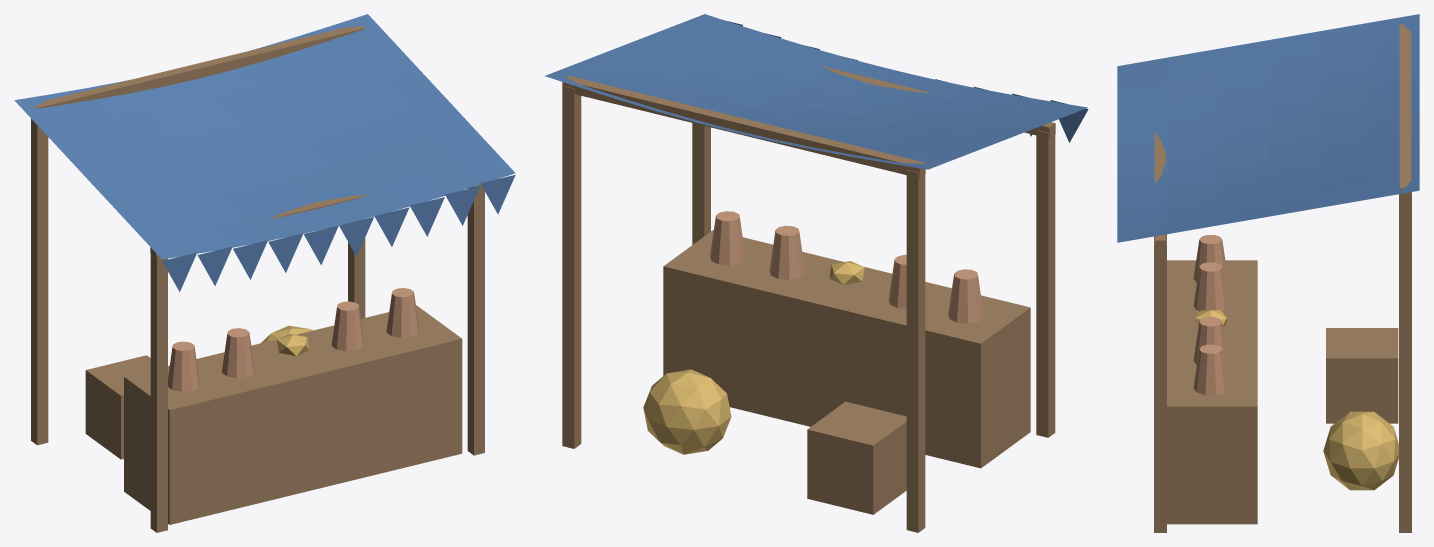
The model's file is SM_DST_Settle_Stall_B_Frac.fbx.
The picture shows the model from 3 angles, left to right: view 1: azimuth 30°, elevation 25°; view 2: azimuth 150°, elevation 25°; view 3: azimuth 270°, elevation 25°; orthographic projection. The views are drawn at different scales.
Visible parts, largest first — view 1: SM_DST_Settle_Stall_B_p05, SM_DST_Settle_Stall_B_p04, SM_DST_Settle_Stall_B_p03, SM_DST_Settle_Stall_B_p02, SM_DST_Settle_Stall_B_p07, SM_DST_Settle_Stall_B_p01, SM_DST_Settle_Stall_B_p06, SM_DST_Settle_Stall_B_p00; view 2: SM_DST_Settle_Stall_B_p04, SM_DST_Settle_Stall_B_p01, SM_DST_Settle_Stall_B_p02, SM_DST_Settle_Stall_B_p05, SM_DST_Settle_Stall_B_p07, SM_DST_Settle_Stall_B_p00, SM_DST_Settle_Stall_B_p03, SM_DST_Settle_Stall_B_p06; view 3: SM_DST_Settle_Stall_B_p04, SM_DST_Settle_Stall_B_p05, SM_DST_Settle_Stall_B_p03, SM_DST_Settle_Stall_B_p07, SM_DST_Settle_Stall_B_p00, SM_DST_Settle_Stall_B_p01, SM_DST_Settle_Stall_B_p06, SM_DST_Settle_Stall_B_p02.
Boxes of the visible parts, box(x1,y1,x2,y2) form: SM_DST_Settle_Stall_B_p05: box(187, 59, 515, 287); SM_DST_Settle_Stall_B_p04: box(253, 284, 484, 489); SM_DST_Settle_Stall_B_p03: box(42, 66, 280, 301); SM_DST_Settle_Stall_B_p02: box(124, 324, 254, 532); SM_DST_Settle_Stall_B_p07: box(215, 14, 508, 166); SM_DST_Settle_Stall_B_p01: box(31, 298, 313, 504); SM_DST_Settle_Stall_B_p06: box(14, 95, 204, 328); SM_DST_Settle_Stall_B_p00: box(131, 219, 365, 360); SM_DST_Settle_Stall_B_p04: box(663, 167, 892, 426); SM_DST_Settle_Stall_B_p01: box(811, 254, 941, 532); SM_DST_Settle_Stall_B_p02: box(939, 211, 1055, 468); SM_DST_Settle_Stall_B_p05: box(692, 14, 958, 171); SM_DST_Settle_Stall_B_p07: box(545, 17, 719, 281); SM_DST_Settle_Stall_B_p00: box(562, 277, 859, 511); SM_DST_Settle_Stall_B_p03: box(745, 84, 1041, 378); SM_DST_Settle_Stall_B_p06: box(898, 100, 1088, 382); SM_DST_Settle_Stall_B_p04: box(1154, 310, 1257, 532); SM_DST_Settle_Stall_B_p05: box(1117, 101, 1419, 362); SM_DST_Settle_Stall_B_p03: box(1117, 30, 1419, 133); SM_DST_Settle_Stall_B_p07: box(1130, 116, 1419, 379); SM_DST_Settle_Stall_B_p00: box(1236, 350, 1411, 532); SM_DST_Settle_Stall_B_p01: box(1167, 262, 1398, 423); SM_DST_Settle_Stall_B_p06: box(1117, 14, 1419, 90); SM_DST_Settle_Stall_B_p02: box(1154, 234, 1257, 301).
Bounding box in the file's own units: 2.9 × 2.68 × 2.1.
